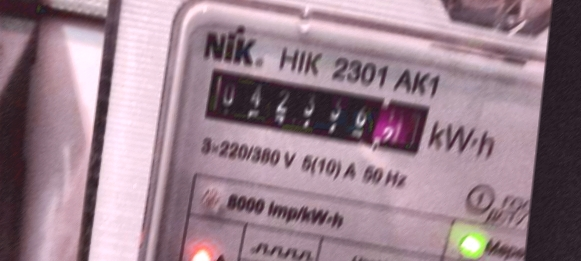0: (220, 78, 236, 108)
2: (271, 86, 292, 114)
3: (298, 89, 317, 119), (327, 93, 344, 122)
4: (246, 82, 264, 110)
6: (351, 101, 369, 130)
screen: (191, 59, 438, 165)
